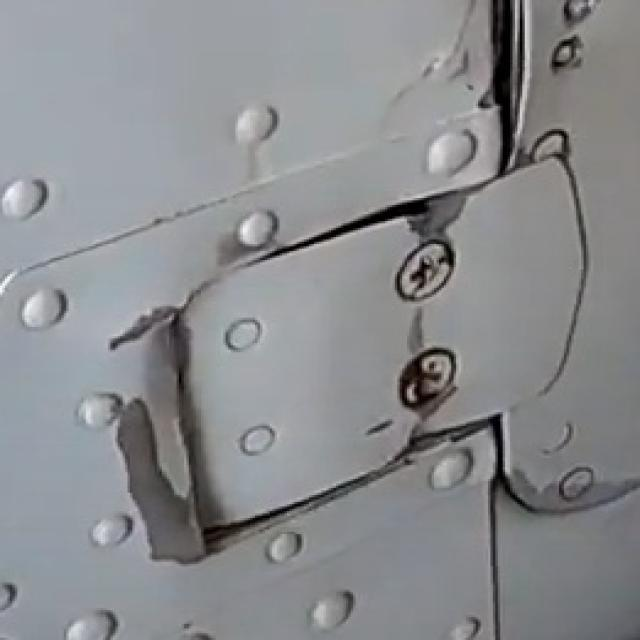crack: (109, 384, 214, 567), (247, 175, 460, 252), (484, 7, 539, 192), (103, 301, 178, 363), (403, 314, 433, 351)
